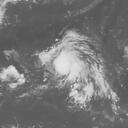cyclone: (36, 30, 121, 110)
